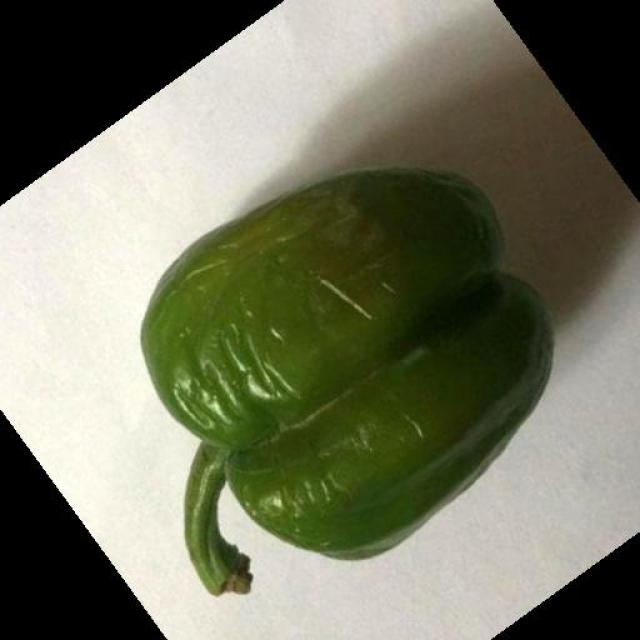Stale_Capsicum: (115, 216, 550, 524)
